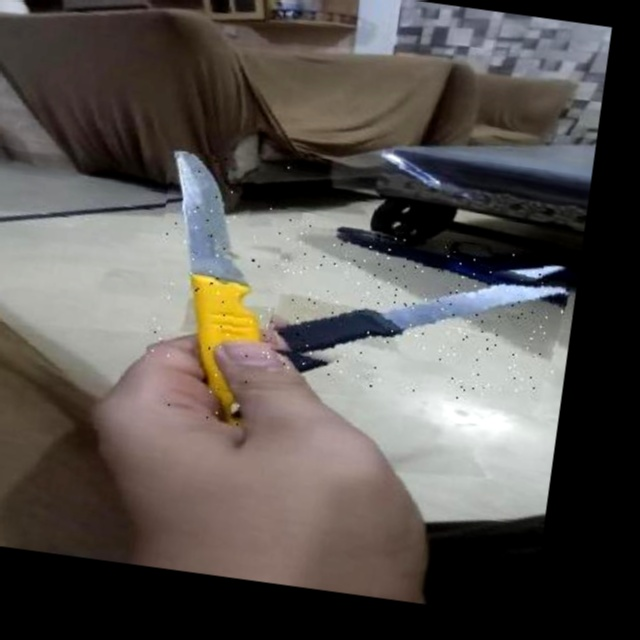Sharp-Object: (264, 219, 570, 411), (137, 151, 291, 429)
